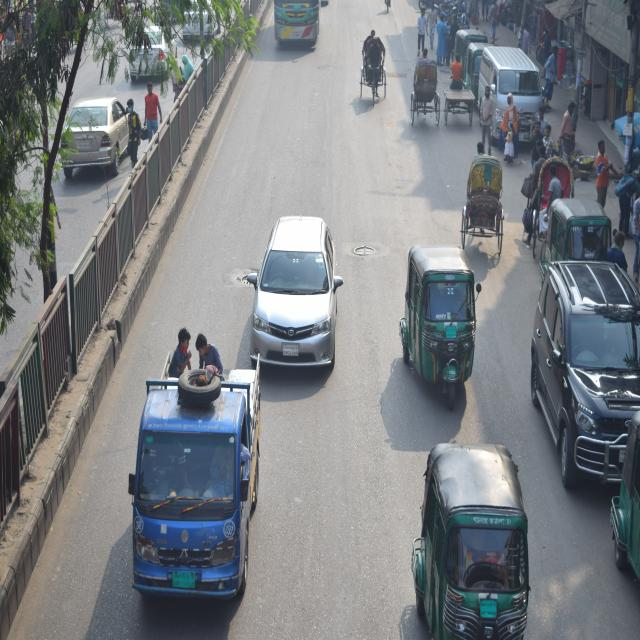bus: (270, 0, 327, 53)
car: (526, 250, 640, 488), (248, 199, 349, 378), (62, 82, 136, 190)
microbus: (475, 41, 540, 152)
pickup-van: (119, 346, 271, 640)
